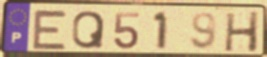1: (151, 11, 170, 51)
5: (113, 11, 142, 50)
9: (189, 12, 219, 51)
E: (31, 8, 70, 51)
H: (223, 11, 261, 54)
Q: (70, 10, 107, 51)
